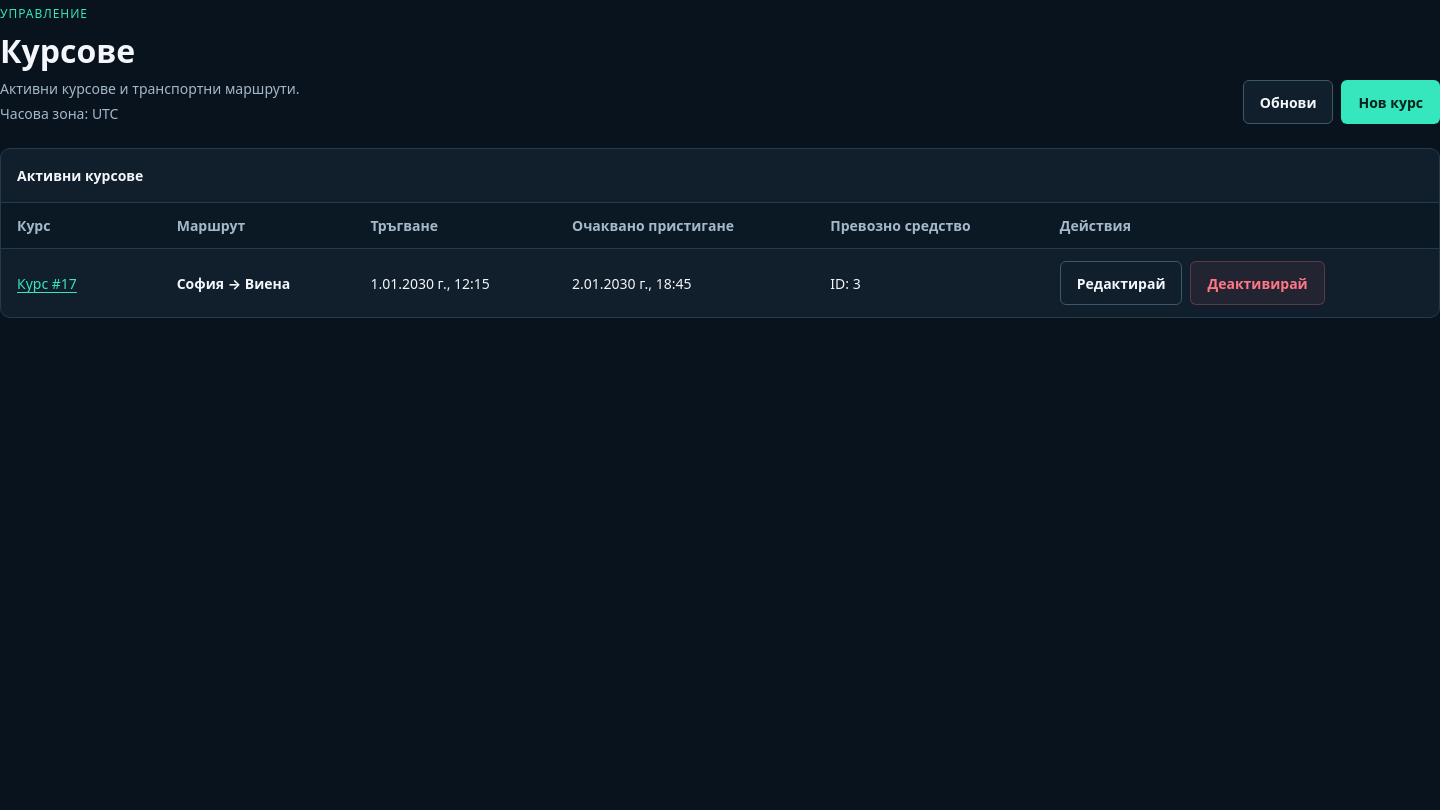
Test case: reads current version and exact timestamps, preserves a conflicting draft, and reloads only on request
Expected: the table is shown, [1,149,1439,317]
Click the button with aria-label "Редактирай курс #17" at (1121, 283), box [1060,261,1182,305]
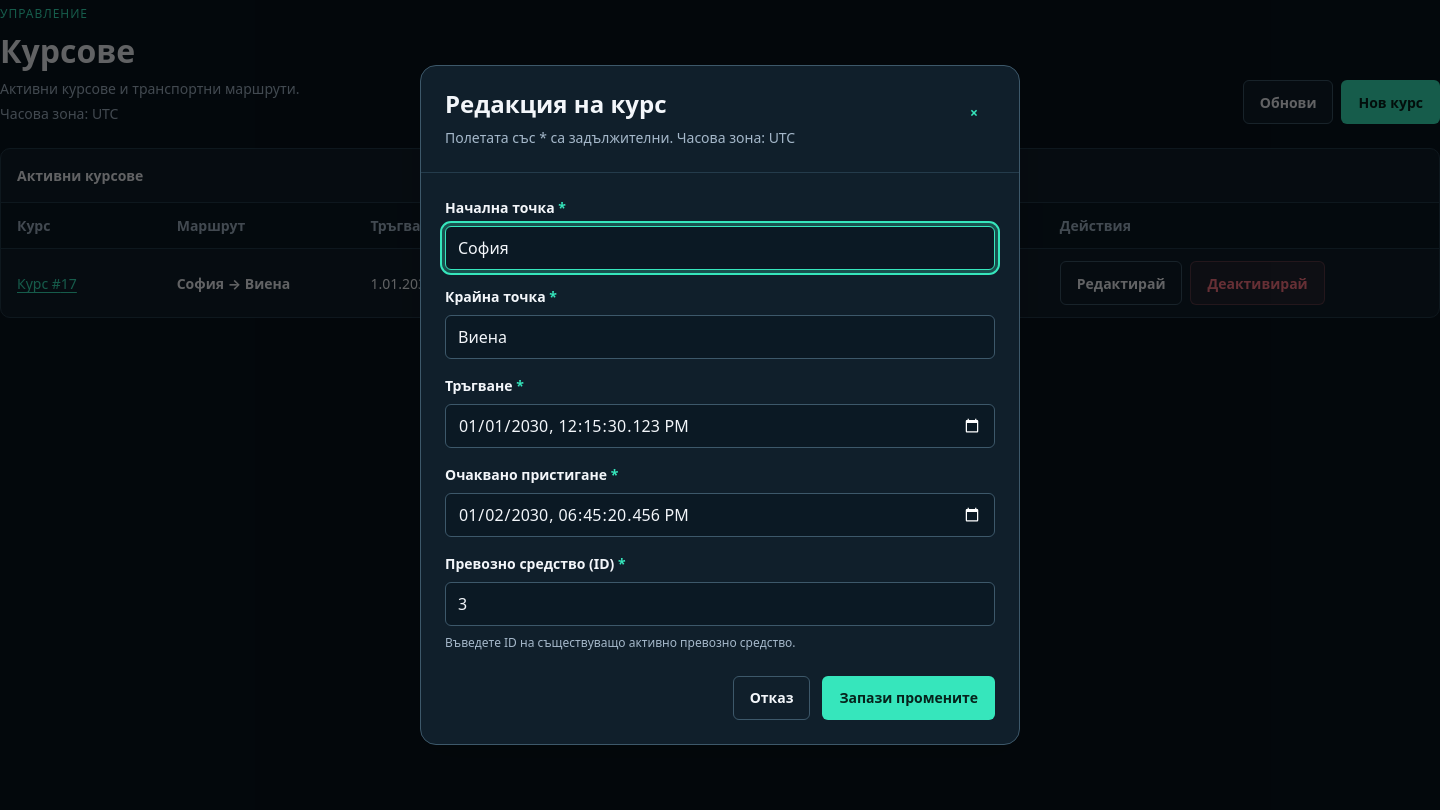
Now the field labelled "Начална точка" holds "София", box [445,226,995,270]
Replace the text in the field labelled "Крайна точка" with "Берлин" at (720, 337), box [445,315,995,359]
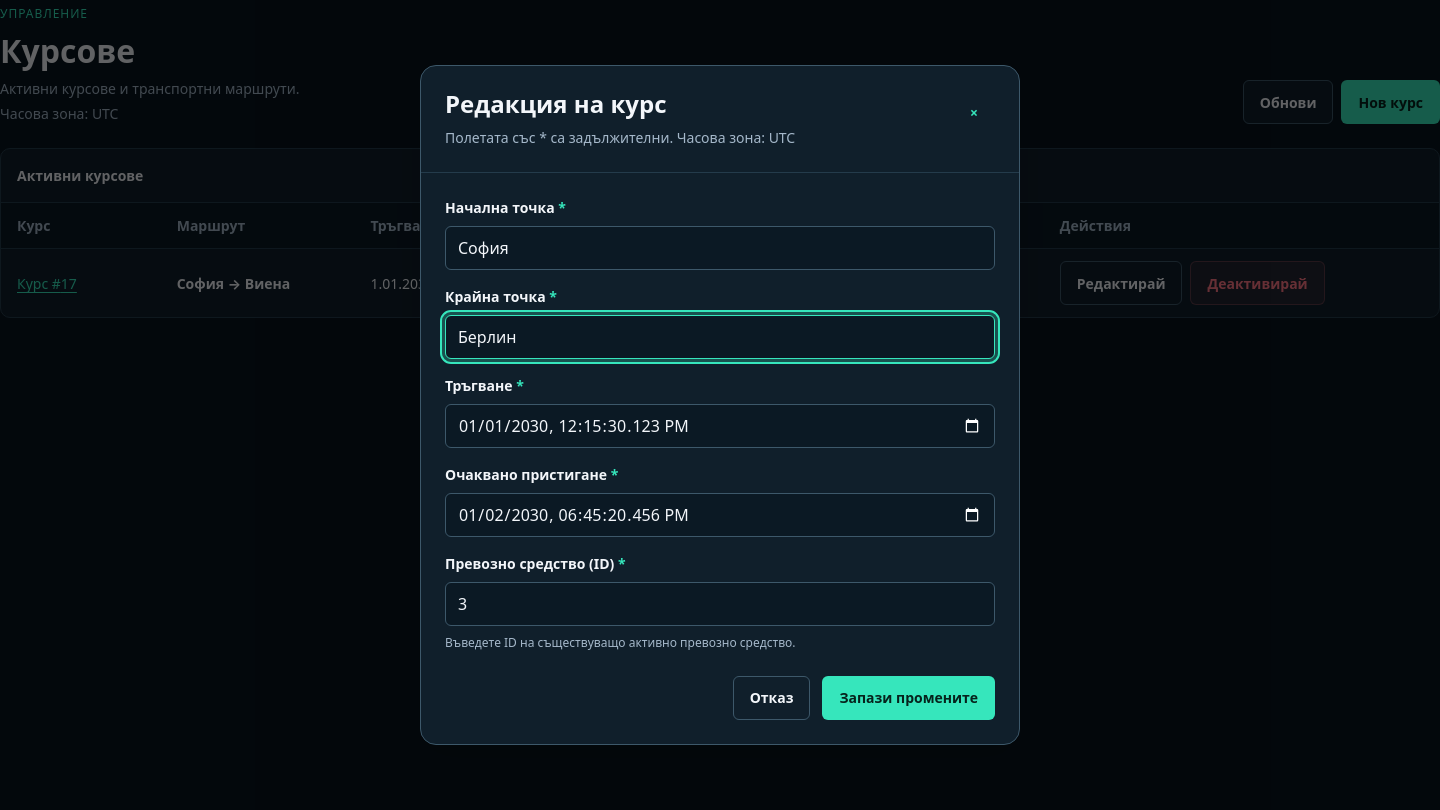
Click the button "Запази промените" at (909, 698), box [822,676,995,720]
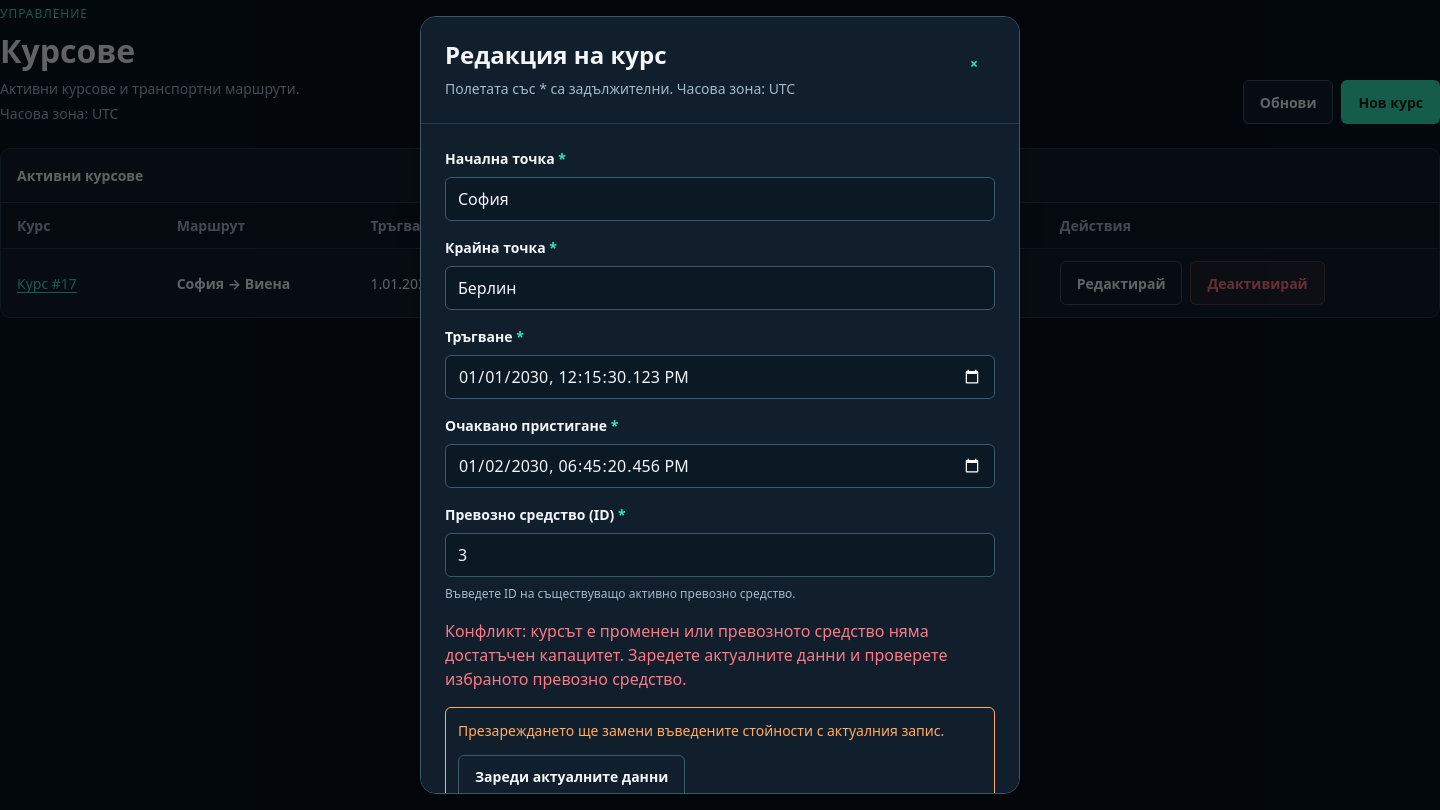
Now the message shows "Конфликт", box [445,620,948,690]
Click the button "Зареди актуалните данни" at (572, 777), box [458,755,685,799]
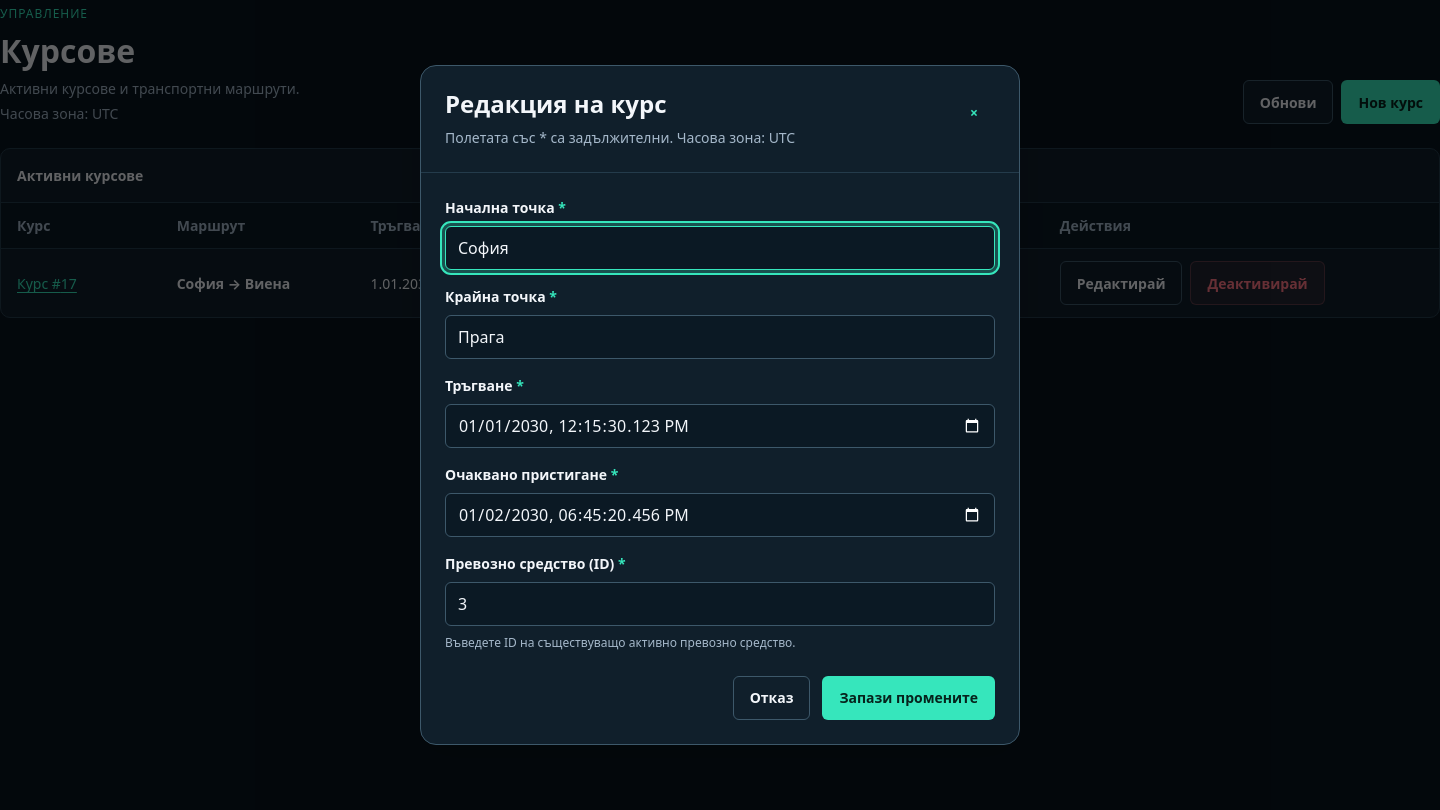
Now the field labelled "Крайна точка" holds "Прага", box [445,315,995,359]
Click the button "Запази промените" at (909, 698), box [822,676,995,720]
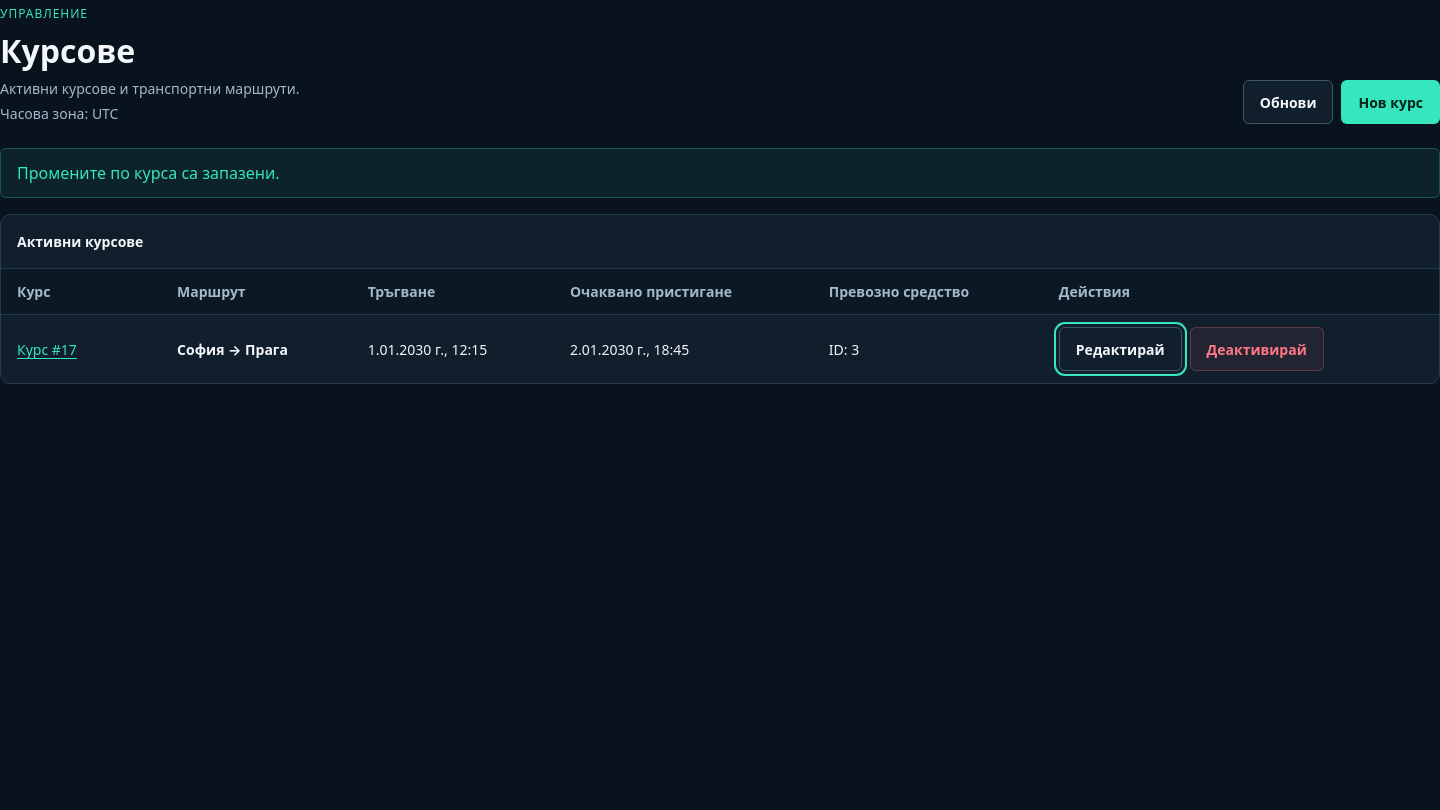
Now the dialog is gone
Now the text "София → Прага" is shown, box [177,340,288,359]
